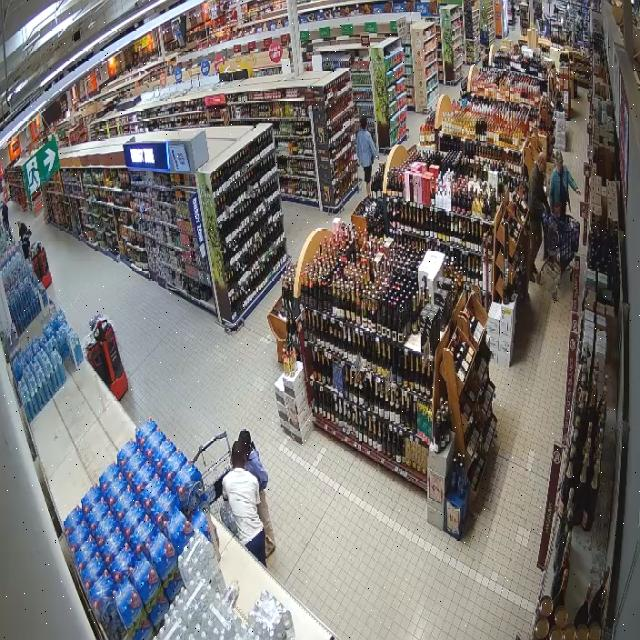hands: (575, 188, 582, 196)
person: (222, 440, 265, 567), (239, 429, 275, 557), (528, 152, 549, 281), (547, 150, 579, 216), (355, 118, 378, 194)
